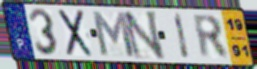3: (29, 7, 60, 57)
I: (173, 11, 192, 61)
M: (89, 10, 137, 59)
N: (121, 9, 167, 61)
R: (190, 13, 232, 61)
X: (56, 8, 94, 58)
